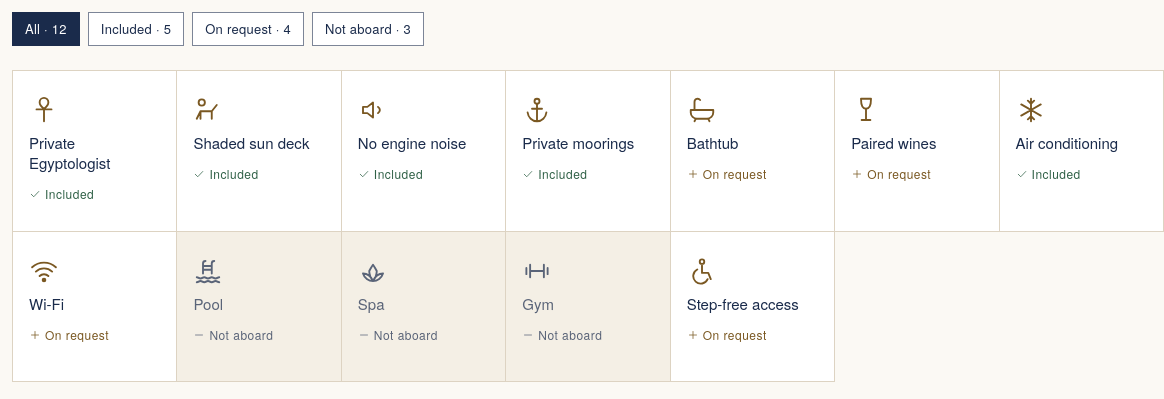
Test: AmenityGrid (COMP-AmenityGrid) › counts and filters by status, always with a word (BRAND-019)
Expected: the radio button labelled "All · 12" is shown, x1=12 y1=12 x2=80 y2=46
Click the radio button labelled "Not aboard · 3" at (368, 29), box x1=312 y1=12 x2=424 y2=46
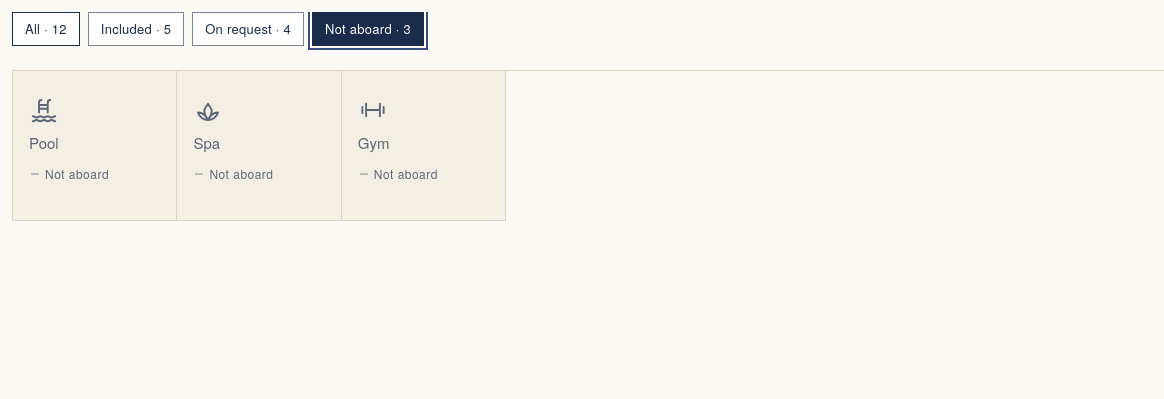
Expected: the number of list items is 3, x1=13 y1=71 x2=177 y2=221; x1=177 y1=71 x2=342 y2=221; x1=342 y1=71 x2=506 y2=221
